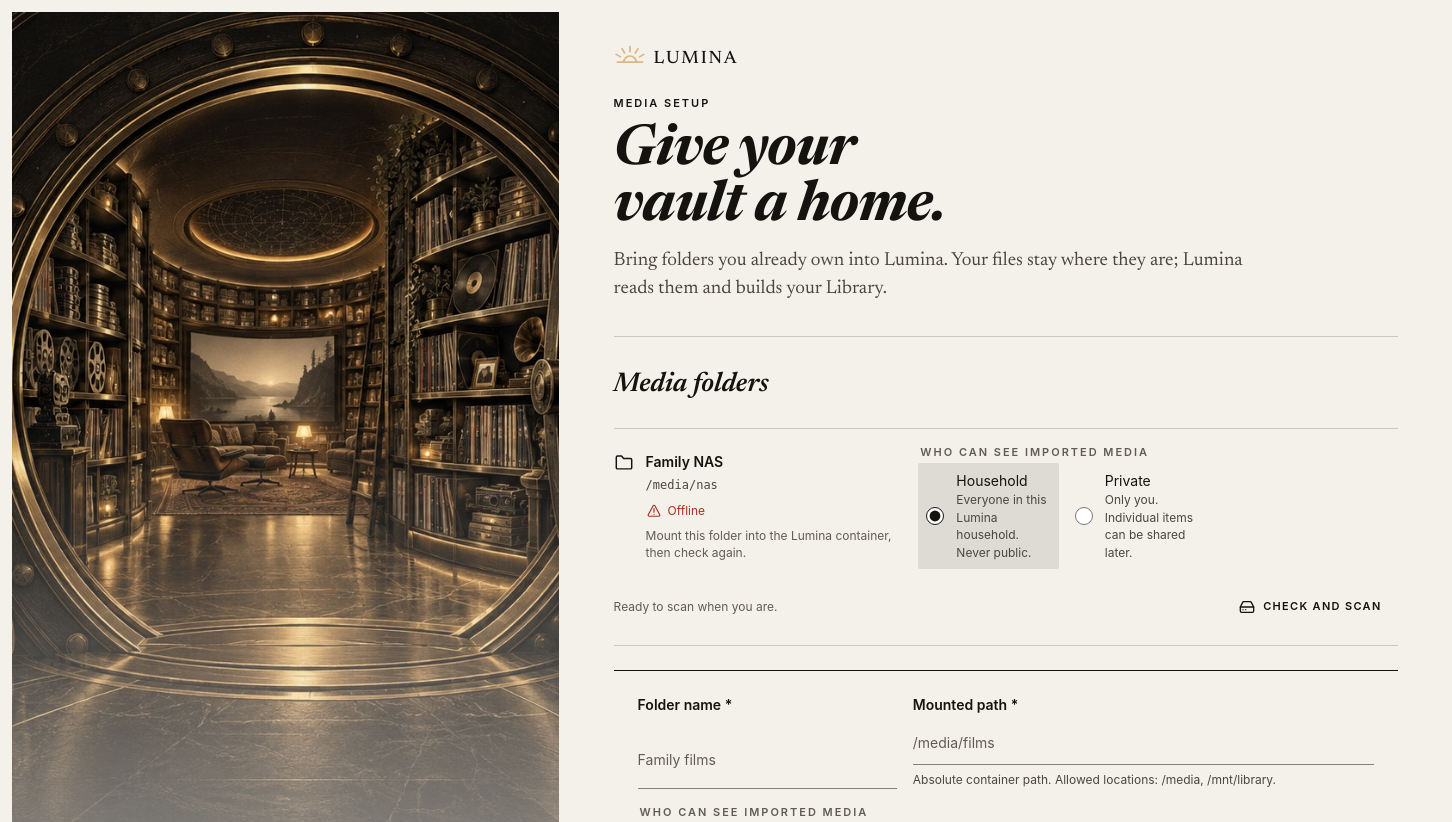
admin vault setup › keeps an unavailable probe actionable without starting an import
This screenshot has width=1452, height=822.
Click the button "Check and scan".
click(1310, 607)  # box [1223, 585, 1398, 629]
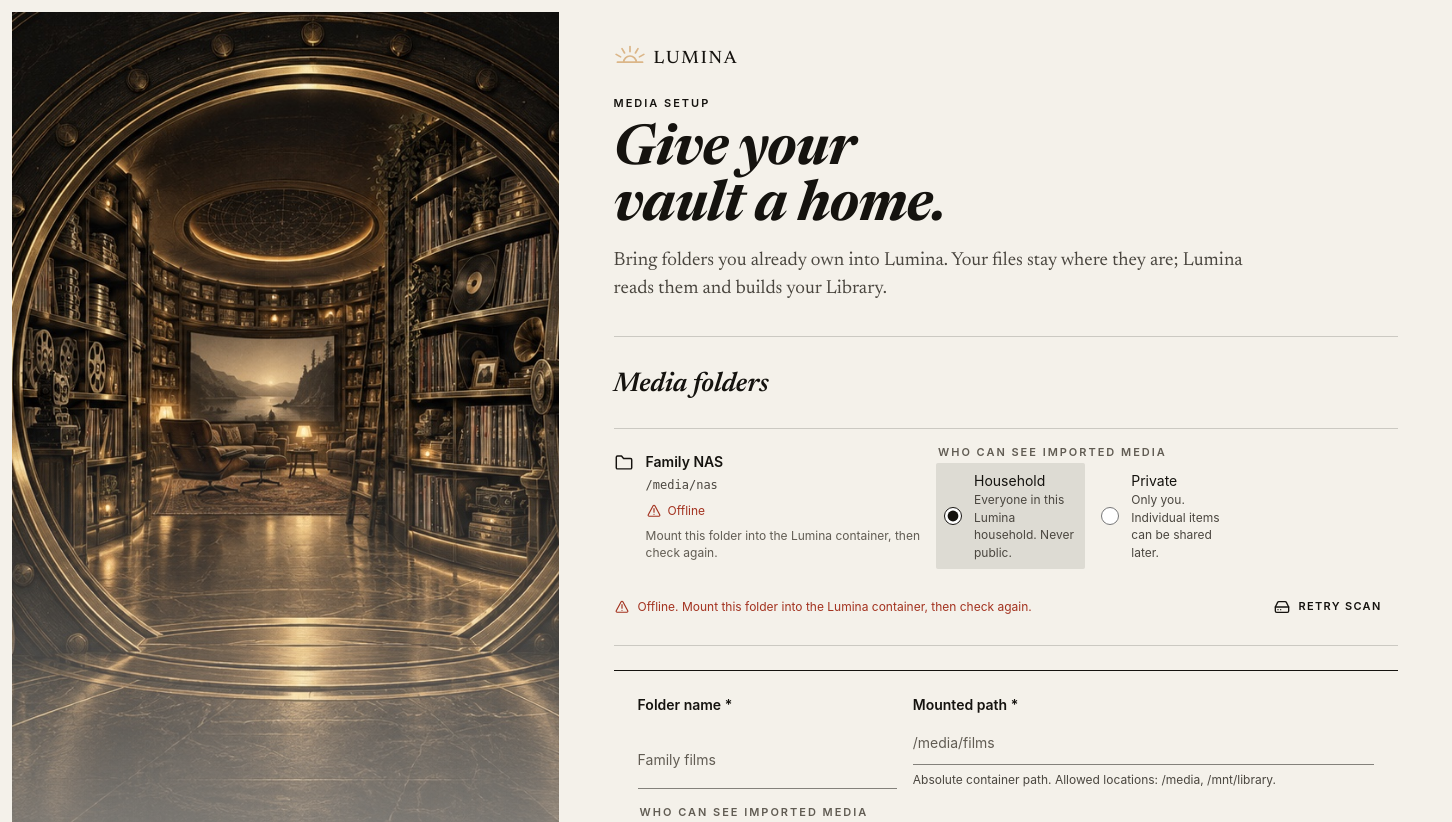
Check: the message reads "Offline. Mount this folder into the Lumina container, then check again.", box [638, 599, 1032, 614]
Check: the button "Retry scan" is shown, box [1258, 585, 1398, 629]
